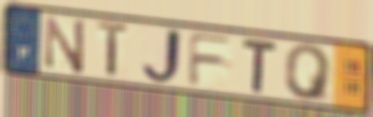F: (186, 31, 237, 88)
J: (139, 26, 186, 88)
N: (43, 14, 88, 77)
Q: (283, 43, 335, 104)
T: (240, 37, 280, 96), (95, 19, 133, 80)
